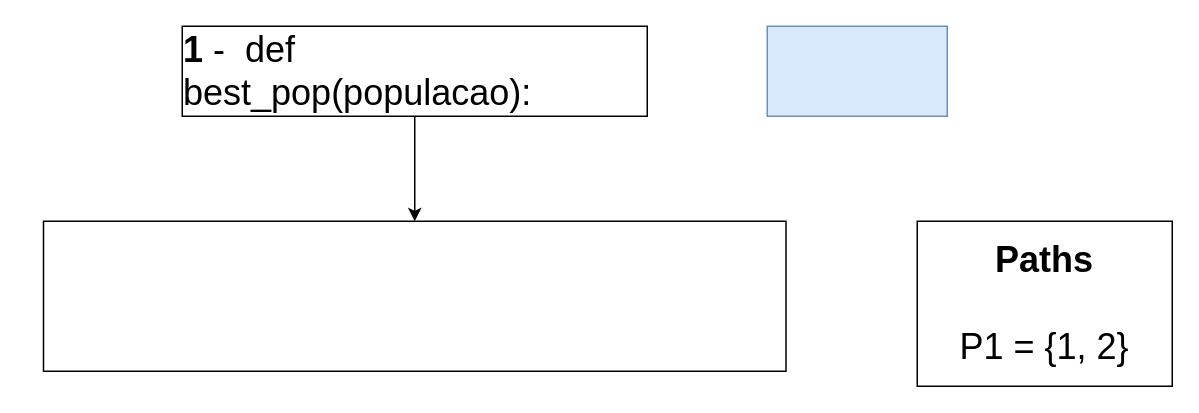
Image size: 1199x413. Some labels were removed from this diagram. The box of each missing label's shape, as (x1, y1, x2, y2) in pixels:
2 populacao.sort(key=itemgetter(1),reverse=False) return populacao[0]: (42, 220, 786, 371)
Vg = 1: (766, 25, 947, 116)
